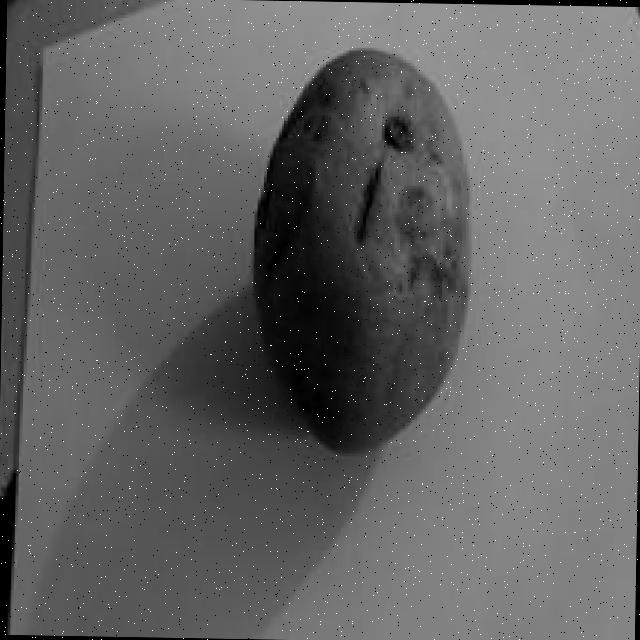overripe: (240, 38, 478, 460)
